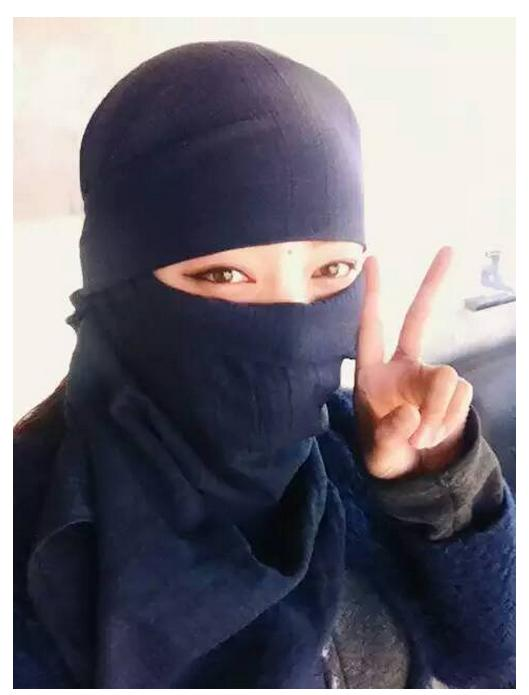OK: (158, 228, 369, 439)
